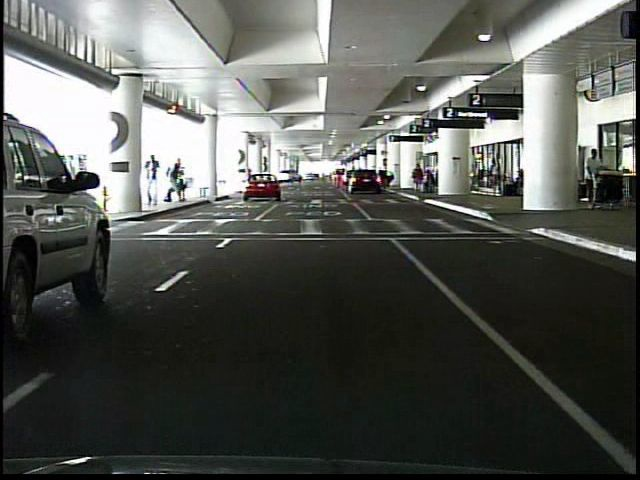person: (146, 153, 162, 207), (164, 170, 188, 204), (584, 146, 606, 175), (168, 159, 182, 202), (409, 163, 424, 195), (489, 160, 501, 197), (465, 162, 478, 192), (429, 168, 430, 193)
